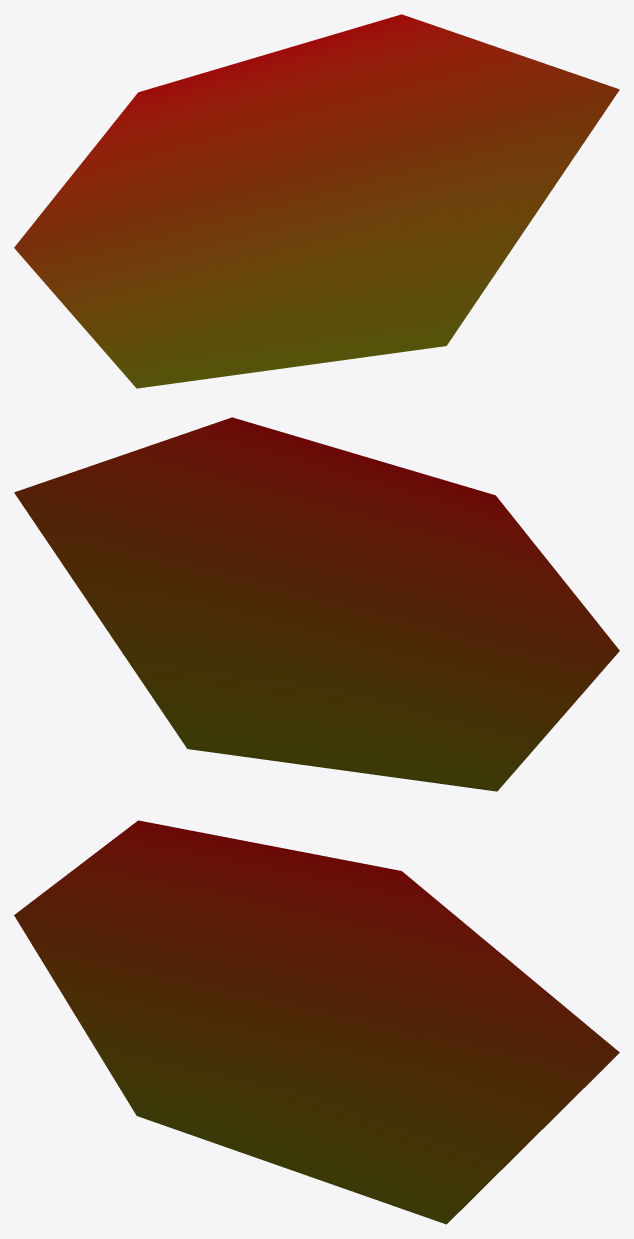
The model's file is Fern_LOD3_Var2_sbslY.fbx.
3 views of the same model, one above another, from view 1: azimuth 30°, elevation 25°; view 2: azimuth 150°, elevation 25°; view 3: azimuth 330°, elevation 25° (orthographic).
Visible parts, largest first — view 1: _fba6_Var2_LOD3; view 2: _fba6_Var2_LOD3; view 3: _fba6_Var2_LOD3.
Part boxes in pixels (x1,y1,x2,y2): _fba6_Var2_LOD3: (14,14,619,388); _fba6_Var2_LOD3: (14,417,619,791); _fba6_Var2_LOD3: (14,820,619,1224).
Size of the model in its own units: 170 by 91.82 by 1.91e-06.
